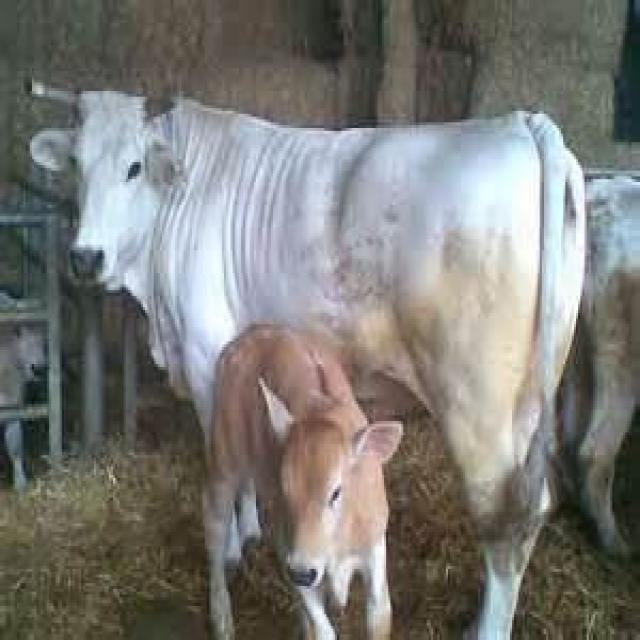cow: (31, 90, 584, 638), (206, 325, 401, 638), (558, 175, 640, 556)
